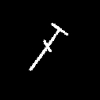double_crochet: (29, 23, 67, 69)
